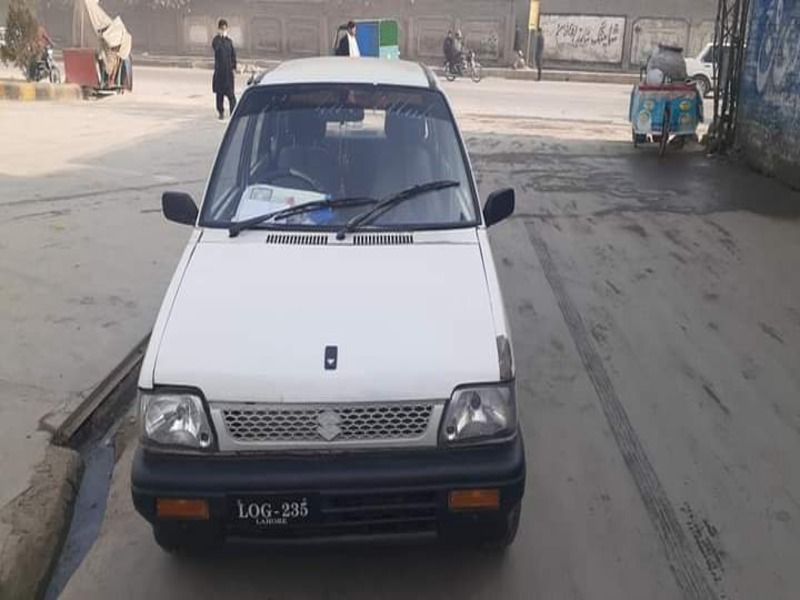License Plate: (229, 488, 323, 531)
